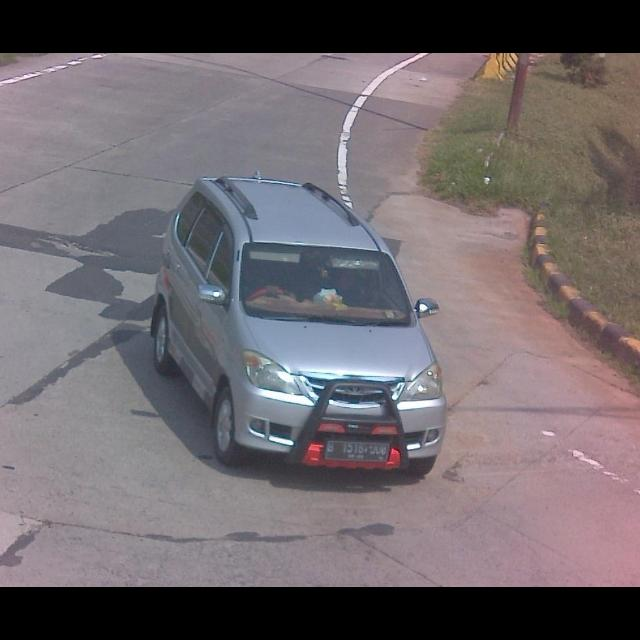plate: (324, 439, 392, 465)
